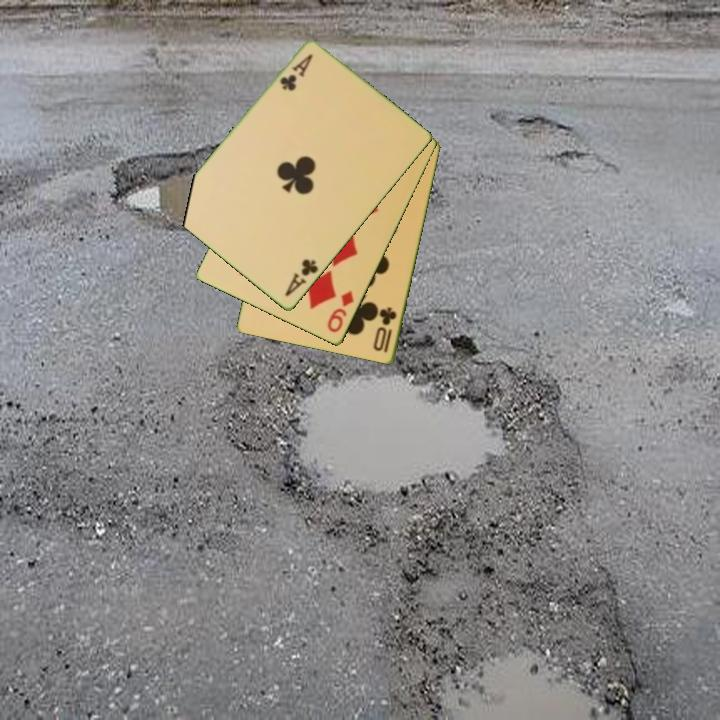10c: (370, 304, 400, 356)
9d: (324, 287, 357, 336)
Ac: (281, 255, 321, 300), (276, 51, 316, 94)
